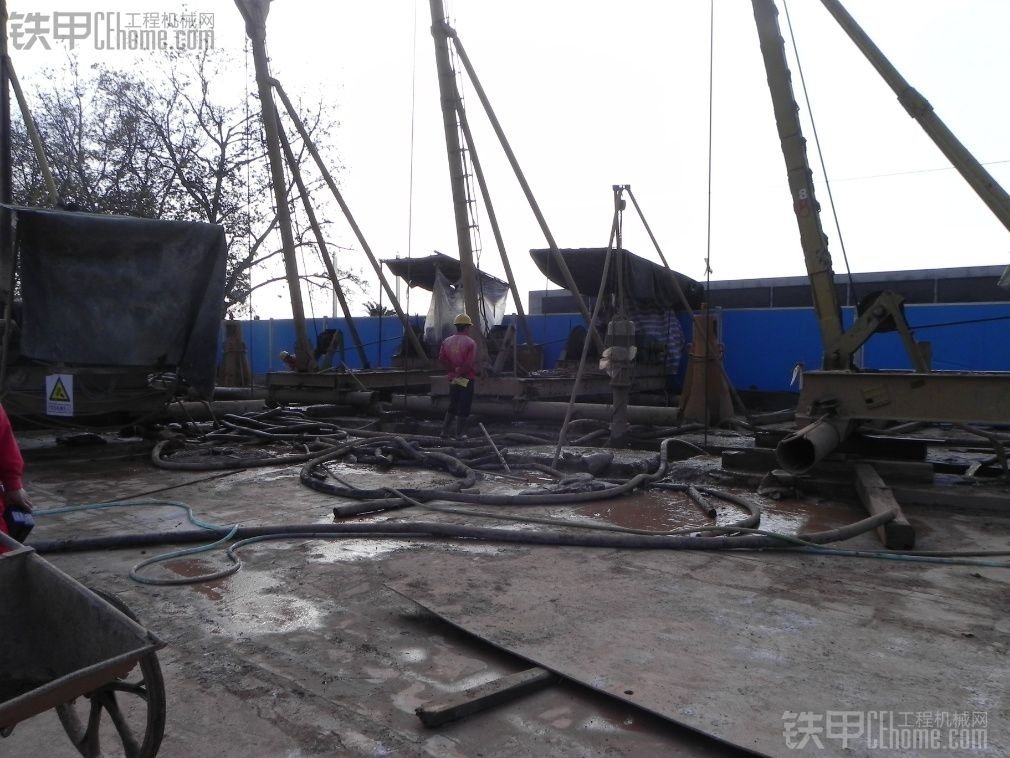white: (452, 312, 472, 333)
